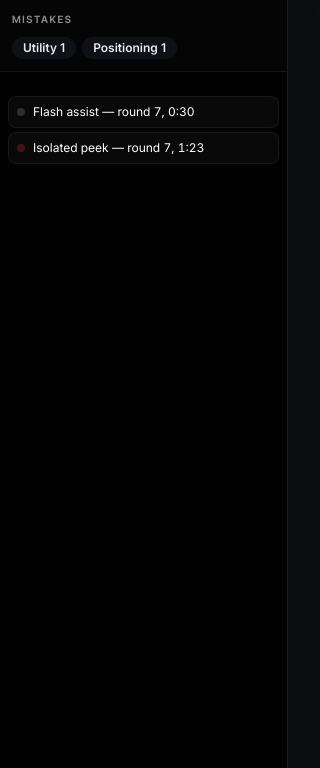
Test: MistakeList › category filter › clicking a badge filters the list to that category
The width and height of the screenshot is (320, 768).
Expected: the button with test id "mistake-list-row-1" is shown, [8,132,279,164]
Step 1. Click the button with test id "mistake-category-badge-positioning" → {"x": 130, "y": 48}, box [82,37,177,59]
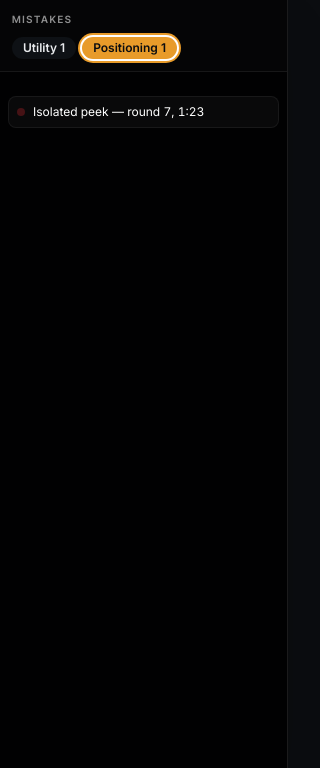
Expected: the button with test id "^mistake-list-row-" reads "Isolated peek — round 7, 1:23", [8,96,279,128]
Expected: the button "Flash assist" is gone
